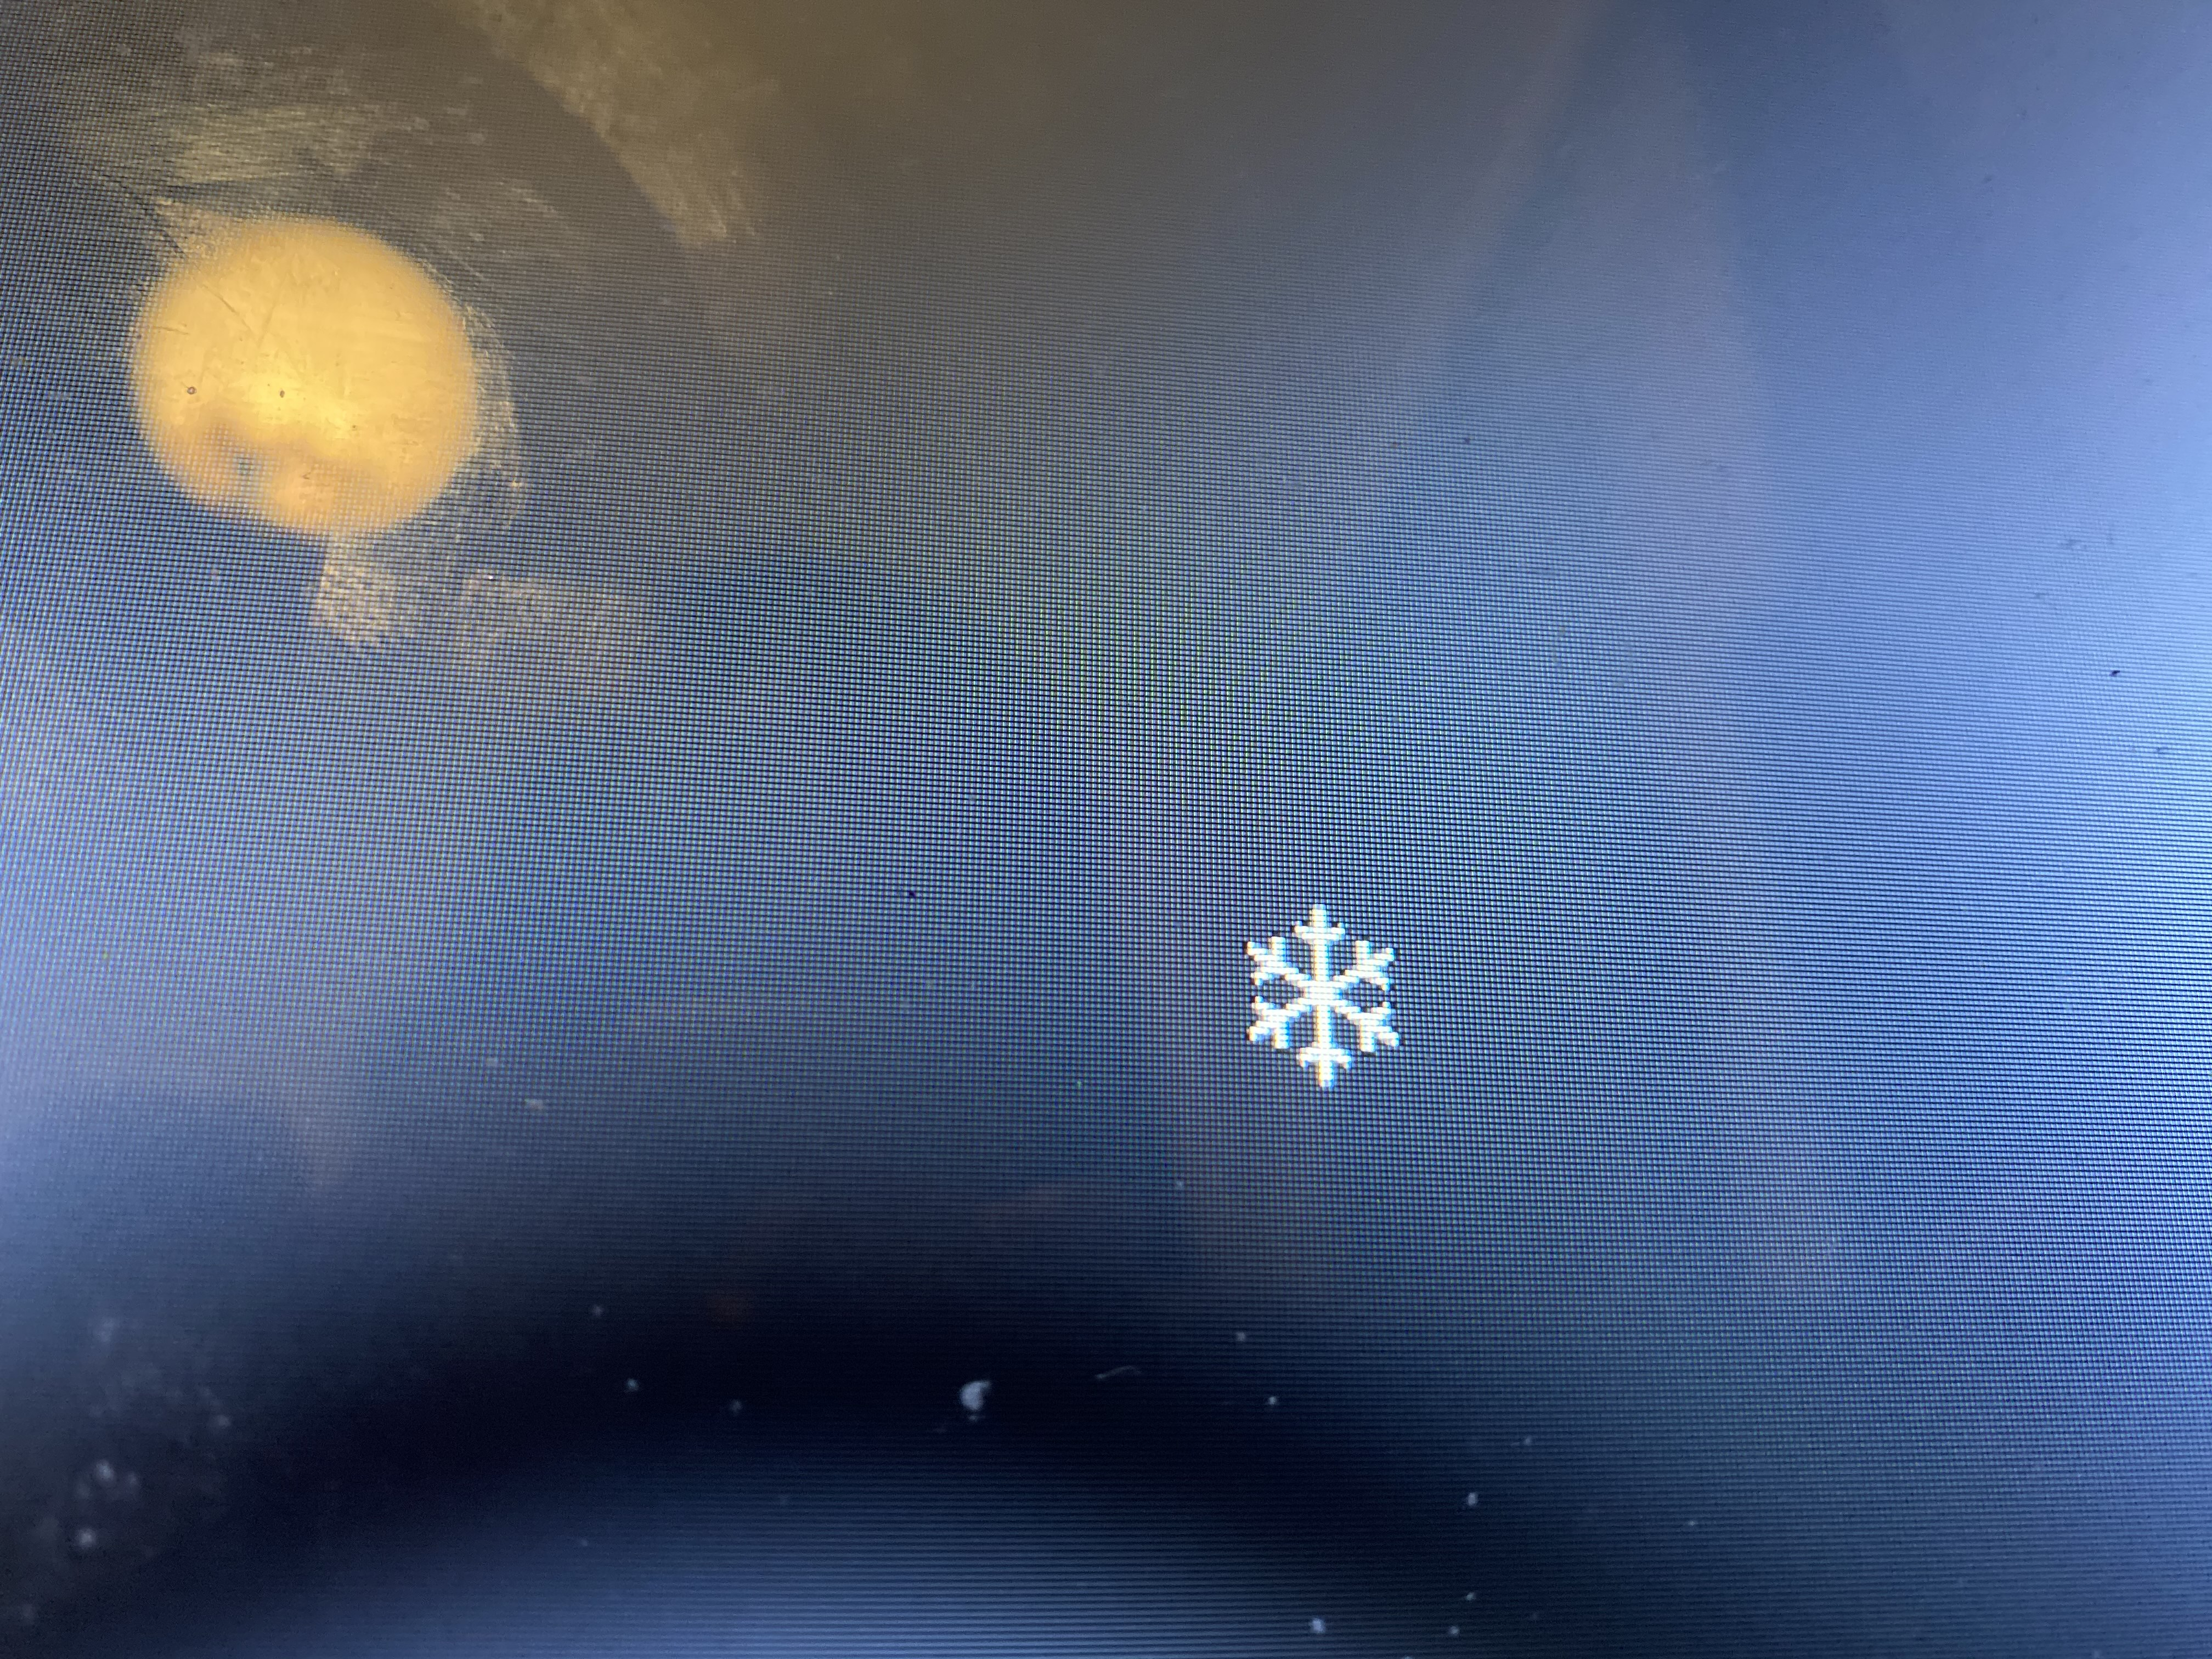EISSTERN: (1205, 882, 1465, 1114)
